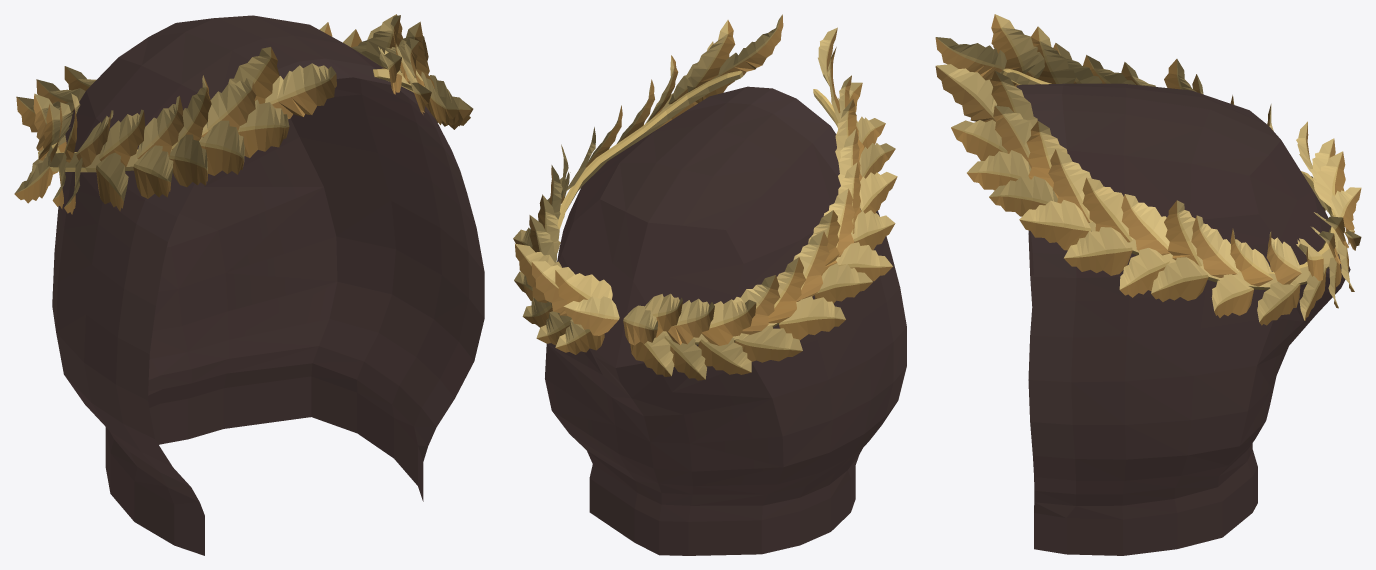
The model's file is greekOakWreathHoodedDark.glb.
The picture shows the model from 3 angles, left to right: view 1: azimuth 30°, elevation 25°; view 2: azimuth 150°, elevation 25°; view 3: azimuth 270°, elevation 25°; orthographic projection. The views are drawn at different scales.
Visible parts, largest first — view 1: greekOakWreathHoodedDark; view 2: greekOakWreathHoodedDark; view 3: greekOakWreathHoodedDark.
Boxes of the visible parts, x1,y1,x2,y2 form: greekOakWreathHoodedDark: [14, 14, 484, 555]; greekOakWreathHoodedDark: [513, 14, 906, 555]; greekOakWreathHoodedDark: [935, 14, 1361, 555].
Size of the model in its own units: 0.3663 by 0.4467 by 0.3743.
